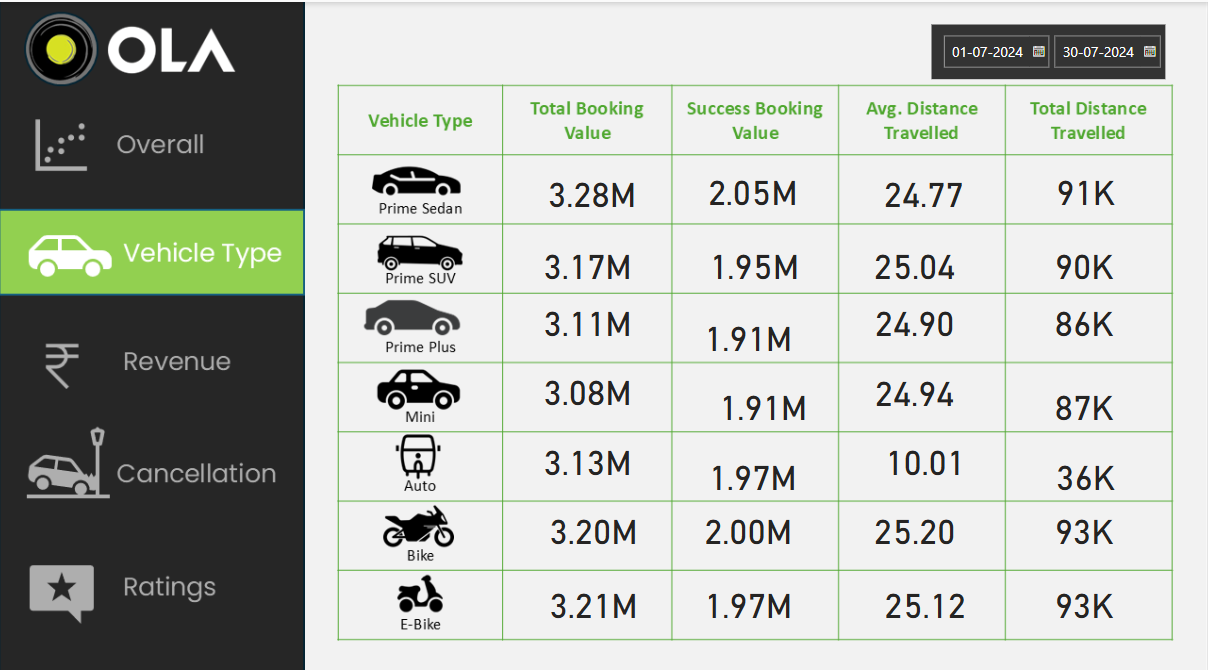

The dashboard page shown, as its layout file describes it:
{"tool":"powerbi","page":{"name":"Vehicle Type","canvas":[1280,720],"ordinal":1},"visuals":[{"type":"actionButton","box":[0,336.2,326.1,92.8],"z":0},{"type":"actionButton","box":[0,455.1,326.1,92.8],"z":1000},{"type":"actionButton","box":[0,573.9,326.1,92.8],"z":2000},{"type":"actionButton","box":[0,108.7,326.1,92.8],"z":3000},{"type":"card","fields":{"Values":["Sum(Bookings-40000-Rows.Booking_Value)"]},"box":[542,172,170,58],"z":4000},{"type":"card","fields":{"Values":["Sum(Bookings-40000-Rows.Booking_Value)"]},"box":[538,248,170,58],"z":5000},{"type":"card","fields":{"Values":["Sum(Bookings-40000-Rows.Booking_Value)"]},"box":[538,308,170,58],"z":6000},{"type":"card","fields":{"Values":["Sum(Bookings-40000-Rows.Booking_Value)"]},"box":[538,382,170,58],"z":7000},{"type":"card","fields":{"Values":["Sum(Bookings-40000-Rows.Booking_Value)"]},"box":[544,530,170,58],"z":8000},{"type":"card","fields":{"Values":["Sum(Bookings-40000-Rows.Booking_Value)"]},"box":[538,456,170,58],"z":9000},{"type":"card","fields":{"Values":["Sum(Bookings-40000-Rows.Booking_Value)"]},"box":[544,608,170,58],"z":10000},{"type":"card","fields":{"Values":["Sum(Bookings-40000-Rows.Booking_Value)"]},"box":[712,170,170,58],"z":11000},{"type":"card","fields":{"Values":["Sum(Bookings-40000-Rows.Booking_Value)"]},"box":[714,248,170,58],"z":12000},{"type":"card","fields":{"Values":["Sum(Bookings-40000-Rows.Booking_Value)"]},"box":[708,608,170,58],"z":13000},{"type":"card","fields":{"Values":["Sum(Bookings-40000-Rows.Booking_Value)"]},"box":[708,530,170,58],"z":14000},{"type":"card","fields":{"Values":["Sum(Bookings-40000-Rows.Booking_Value)"]},"box":[712,472,170,58],"z":15000},{"type":"card","fields":{"Values":["Sum(Bookings-40000-Rows.Booking_Value)"]},"box":[724,398,170,58],"z":16000},{"type":"card","fields":{"Values":["Sum(Bookings-40000-Rows.Booking_Value)"]},"box":[708,324,170,58],"z":17000},{"type":"card","fields":{"Values":["Avg(Bookings-40000-Rows.Ride_Distance)"]},"box":[894,172,170,58],"z":18000},{"type":"card","fields":{"Values":["Avg(Bookings-40000-Rows.Ride_Distance)"]},"box":[884,248,170,58],"z":19000},{"type":"card","fields":{"Values":["Avg(Bookings-40000-Rows.Ride_Distance)"]},"box":[884,308,170,58],"z":20000},{"type":"card","fields":{"Values":["Avg(Bookings-40000-Rows.Ride_Distance)"]},"box":[884,384,170,58],"z":21000},{"type":"card","fields":{"Values":["Avg(Bookings-40000-Rows.Ride_Distance)"]},"box":[896,456,170,58],"z":22000},{"type":"card","fields":{"Values":["Avg(Bookings-40000-Rows.Ride_Distance)"]},"box":[884,530,170,58],"z":23000},{"type":"card","fields":{"Values":["Avg(Bookings-40000-Rows.Ride_Distance)"]},"box":[896,608,170,58],"z":24000},{"type":"card","fields":{"Values":["Sum(Bookings-40000-Rows.Ride_Distance)"]},"box":[1066,170,170,58],"z":25000},{"type":"card","fields":{"Values":["Sum(Bookings-40000-Rows.Ride_Distance)"]},"box":[1064,248,170,58],"z":26000},{"type":"card","fields":{"Values":["Sum(Bookings-40000-Rows.Ride_Distance)"]},"box":[1064,308,170,58],"z":27000},{"type":"card","fields":{"Values":["Sum(Bookings-40000-Rows.Ride_Distance)"]},"box":[1064,398,170,58],"z":28000},{"type":"card","fields":{"Values":["Sum(Bookings-40000-Rows.Ride_Distance)"]},"box":[1066,472,170,58],"z":29000},{"type":"card","fields":{"Values":["Sum(Bookings-40000-Rows.Ride_Distance)"]},"box":[1064,530,170,58],"z":30000},{"type":"card","fields":{"Values":["Sum(Bookings-40000-Rows.Ride_Distance)"]},"box":[1064,608,170,58],"z":31000},{"type":"slicer","title":"DATE","fields":{"Values":["Bookings-40000-Rows.Date"]},"box":[988,24,248,58],"z":32000}]}

Visuals, with their boxes on the page's 1280x720 design canvas (x1, y1, x2, y2). These are canvas units, not pixel positions in the 1208x670 screenshot, which may show the page scaled, cropped or inside an application window:
actionButton: box(0, 336, 326, 429)
actionButton: box(0, 455, 326, 548)
actionButton: box(0, 574, 326, 667)
actionButton: box(0, 109, 326, 202)
card - Sum(Bookings-40000-Rows.Booking_Value): box(542, 172, 712, 230)
card - Sum(Bookings-40000-Rows.Booking_Value): box(538, 248, 708, 306)
card - Sum(Bookings-40000-Rows.Booking_Value): box(538, 308, 708, 366)
card - Sum(Bookings-40000-Rows.Booking_Value): box(538, 382, 708, 440)
card - Sum(Bookings-40000-Rows.Booking_Value): box(544, 530, 714, 588)
card - Sum(Bookings-40000-Rows.Booking_Value): box(538, 456, 708, 514)
card - Sum(Bookings-40000-Rows.Booking_Value): box(544, 608, 714, 666)
card - Sum(Bookings-40000-Rows.Booking_Value): box(712, 170, 882, 228)
card - Sum(Bookings-40000-Rows.Booking_Value): box(714, 248, 884, 306)
card - Sum(Bookings-40000-Rows.Booking_Value): box(708, 608, 878, 666)
card - Sum(Bookings-40000-Rows.Booking_Value): box(708, 530, 878, 588)
card - Sum(Bookings-40000-Rows.Booking_Value): box(712, 472, 882, 530)
card - Sum(Bookings-40000-Rows.Booking_Value): box(724, 398, 894, 456)
card - Sum(Bookings-40000-Rows.Booking_Value): box(708, 324, 878, 382)
card - Avg(Bookings-40000-Rows.Ride_Distance): box(894, 172, 1064, 230)
card - Avg(Bookings-40000-Rows.Ride_Distance): box(884, 248, 1054, 306)
card - Avg(Bookings-40000-Rows.Ride_Distance): box(884, 308, 1054, 366)
card - Avg(Bookings-40000-Rows.Ride_Distance): box(884, 384, 1054, 442)
card - Avg(Bookings-40000-Rows.Ride_Distance): box(896, 456, 1066, 514)
card - Avg(Bookings-40000-Rows.Ride_Distance): box(884, 530, 1054, 588)
card - Avg(Bookings-40000-Rows.Ride_Distance): box(896, 608, 1066, 666)
card - Sum(Bookings-40000-Rows.Ride_Distance): box(1066, 170, 1236, 228)
card - Sum(Bookings-40000-Rows.Ride_Distance): box(1064, 248, 1234, 306)
card - Sum(Bookings-40000-Rows.Ride_Distance): box(1064, 308, 1234, 366)
card - Sum(Bookings-40000-Rows.Ride_Distance): box(1064, 398, 1234, 456)
card - Sum(Bookings-40000-Rows.Ride_Distance): box(1066, 472, 1236, 530)
card - Sum(Bookings-40000-Rows.Ride_Distance): box(1064, 530, 1234, 588)
card - Sum(Bookings-40000-Rows.Ride_Distance): box(1064, 608, 1234, 666)
"DATE" slicer: box(988, 24, 1236, 82)
